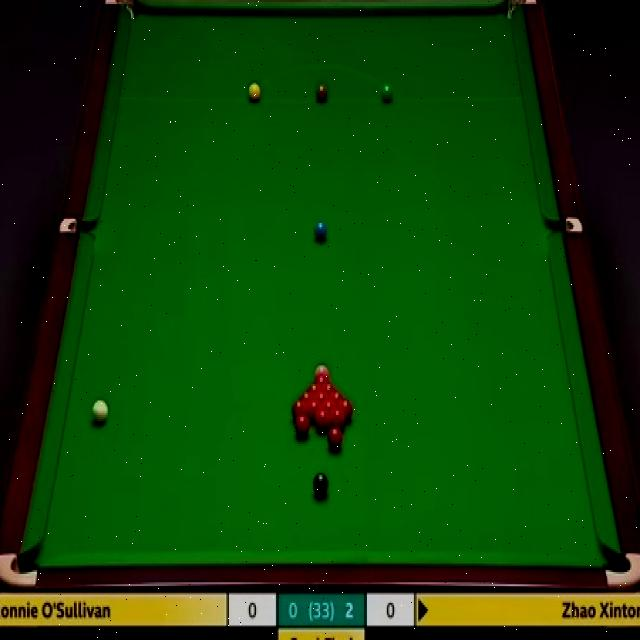black-ball: (312, 472, 330, 500)
blue-ball: (313, 220, 328, 243)
brown-ball: (315, 82, 328, 103)
green-ball: (380, 82, 393, 103)
pink-ball: (314, 362, 331, 378)
red-ball: (327, 429, 345, 452), (328, 409, 346, 431), (294, 414, 310, 436), (315, 409, 329, 431), (322, 400, 337, 420), (291, 399, 308, 416), (337, 401, 354, 417), (307, 400, 321, 419), (299, 391, 314, 401), (330, 392, 345, 402), (314, 392, 330, 401), (306, 383, 322, 392), (322, 383, 338, 392), (314, 375, 329, 383)
white-ball: (92, 398, 110, 423)
yellow-ball: (248, 83, 261, 103)
